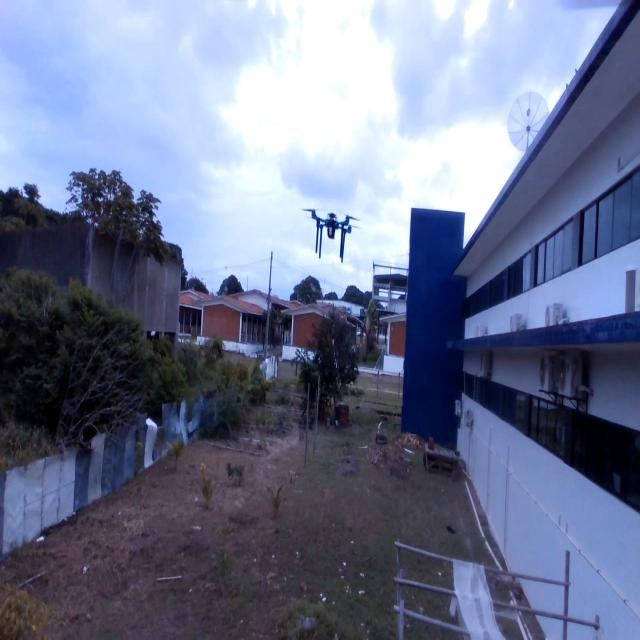-uav-: (298, 190, 367, 270)
